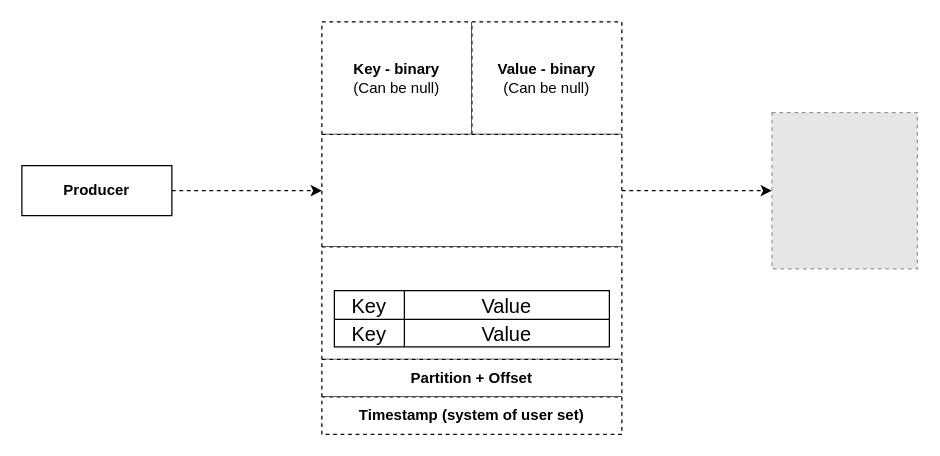
This 940x456 diagram has some shape labels left out. Grey dashed boxes stand in for pictures. Here are the shapes that lost their labels. From the top down, the box of each, then its label:
(321, 133, 622, 247): Compression Type (none, gzip, sanppy, lz4, zstd)
(321, 246, 622, 359): Header (optional)
